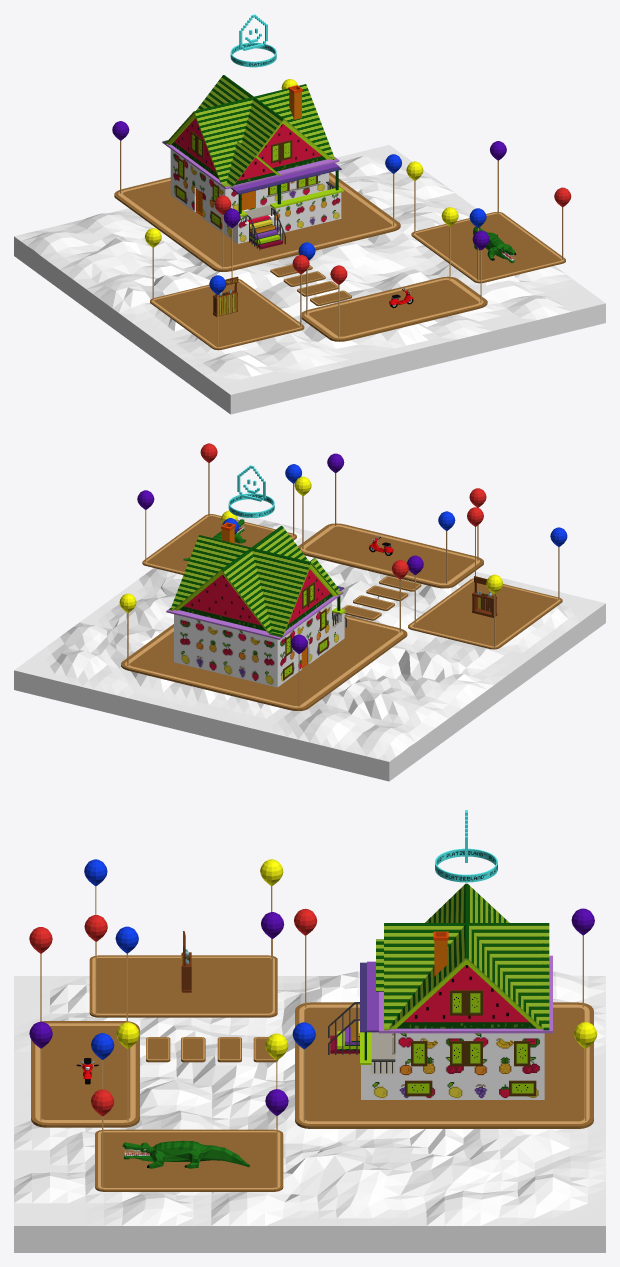
The picture shows the model from 3 angles, top to bottom: view 1: azimuth 30°, elevation 25°; view 2: azimuth 150°, elevation 25°; view 3: azimuth 270°, elevation 25°; orthographic projection. The views are drawn at different scales.
Parts seen in each view (by area): view 1: Cube.013, Cube.1063, TYPE_PREMIUM, OBJRANDOM_LEMONADE_STAND, ANIMAL_COCODRILO; view 2: Cube.013, Cube.1063, TYPE_PREMIUM, OBJRANDOM_LEMONADE_STAND; view 3: Cube.013, Cube.1063, ANIMAL_COCODRILO, TYPE_PREMIUM.
Part boxes in pixels (<box>): Cube.013: <box>14,79,605,414</box>; Cube.1063: <box>162,75,343,250</box>; TYPE_PREMIUM: <box>230,14,276,67</box>; OBJRANDOM_LEMONADE_STAND: <box>213,276,238,316</box>; ANIMAL_COCODRILO: <box>473,226,516,263</box>; Cube.013: <box>14,443,605,781</box>; Cube.1063: <box>166,522,346,687</box>; TYPE_PREMIUM: <box>228,465,274,517</box>; OBJRANDOM_LEMONADE_STAND: <box>472,576,497,617</box>; Cube.013: <box>14,859,605,1252</box>; Cube.1063: <box>328,883,552,1099</box>; ANIMAL_COCODRILO: <box>122,1140,249,1168</box>; TYPE_PREMIUM: <box>435,810,497,882</box>.
Size of the model in its own units: 4000 by 2451 by 4000.
38 materials, 4 textured.
